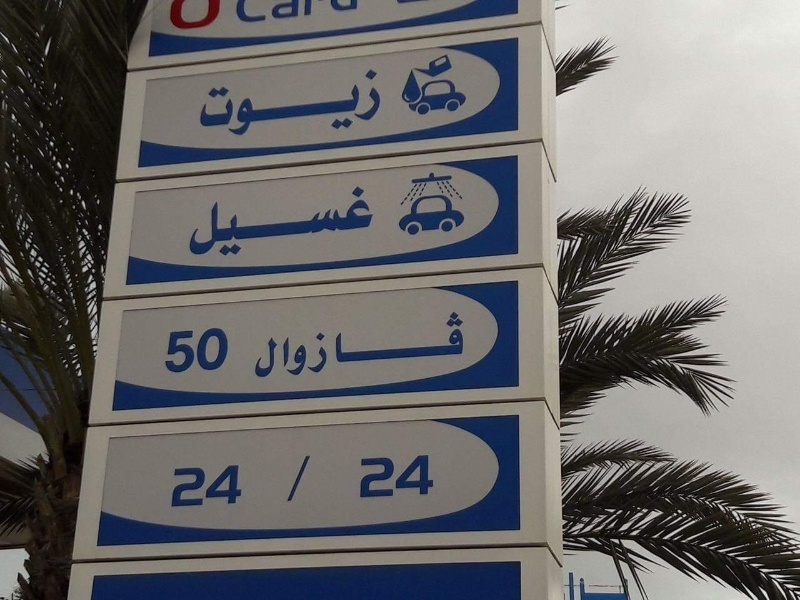text: (209, 68, 224, 144), (225, 68, 240, 144), (241, 68, 256, 144), (257, 68, 272, 144), (273, 68, 288, 144), (289, 68, 304, 144), (305, 68, 320, 144), (321, 68, 336, 144), (337, 68, 352, 144), (353, 68, 368, 144), (369, 68, 384, 144), (193, 185, 208, 261), (209, 185, 224, 261), (225, 185, 240, 261), (241, 185, 256, 261), (257, 185, 272, 261), (273, 185, 288, 261), (289, 185, 304, 261), (305, 185, 320, 261), (321, 185, 336, 261), (337, 185, 352, 261), (353, 185, 368, 261), (257, 308, 272, 381), (273, 308, 288, 381), (289, 308, 304, 381), (305, 308, 320, 381), (321, 308, 336, 381), (337, 308, 352, 381), (353, 308, 368, 381), (369, 308, 384, 381), (385, 308, 400, 381), (401, 308, 416, 381), (417, 308, 432, 381), (433, 308, 448, 381), (449, 308, 464, 381), (289, 453, 304, 506), (177, 326, 192, 377), (193, 326, 208, 377), (209, 326, 224, 377), (369, 453, 384, 500), (385, 453, 400, 500), (401, 453, 416, 500), (417, 453, 432, 500), (177, 463, 192, 510), (193, 463, 208, 510), (209, 463, 224, 510), (225, 463, 240, 510), (199, 68, 208, 144), (356, 453, 368, 500), (177, 1, 192, 32), (193, 1, 208, 32), (209, 1, 224, 32), (369, 185, 375, 261), (241, 1, 256, 27), (257, 1, 272, 27), (273, 1, 288, 27), (289, 1, 304, 27), (305, 1, 320, 27), (305, 453, 312, 506), (169, 326, 176, 377), (225, 326, 230, 377), (189, 185, 192, 261), (169, 1, 176, 32), (433, 453, 437, 500), (241, 463, 245, 510), (321, 1, 328, 27), (234, 1, 240, 27), (254, 308, 256, 381), (286, 453, 288, 506), (174, 463, 176, 510), (465, 308, 466, 381)
